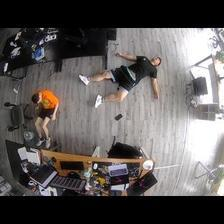fall: (78, 51, 165, 109), (30, 87, 60, 148)
